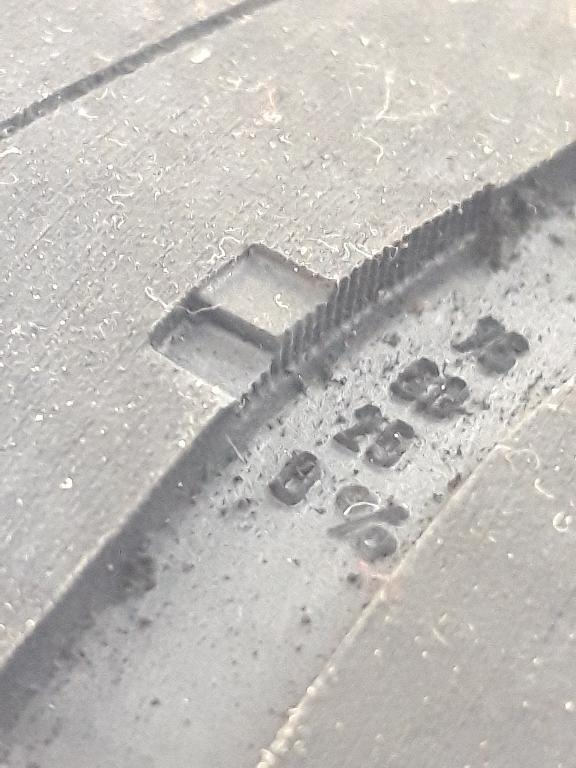temoin:25: (139, 234, 348, 428)
